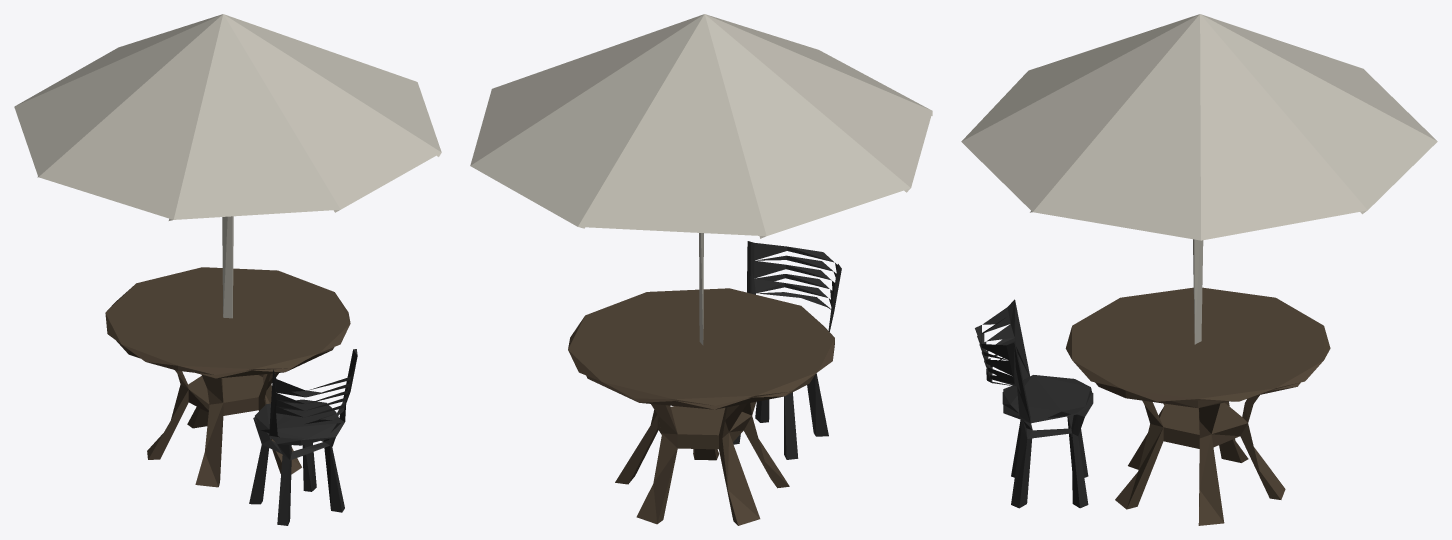
File: bay-beach-table.lod0.glb
3 renders of one model, left to right at view 1: azimuth 30°, elevation 25°; view 2: azimuth 150°, elevation 25°; view 3: azimuth 270°, elevation 25°, orthographic. The views are drawn at different scales.
Parts seen in each view (by area): view 1: pCone2_lambert1_0; view 2: pCone2_lambert1_0; view 3: pCone2_lambert1_0.
Part boxes in pixels (x1,y1,x2,y2): pCone2_lambert1_0: (14,14,441,525); pCone2_lambert1_0: (470,14,932,525); pCone2_lambert1_0: (961,14,1437,525).
Size of the model in its own units: 2.12 by 2.34 by 2.13.
